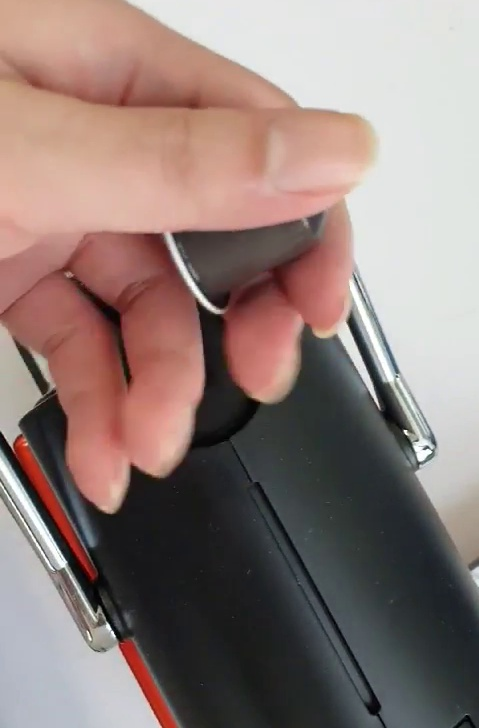capsule_4: (153, 136, 336, 317)
